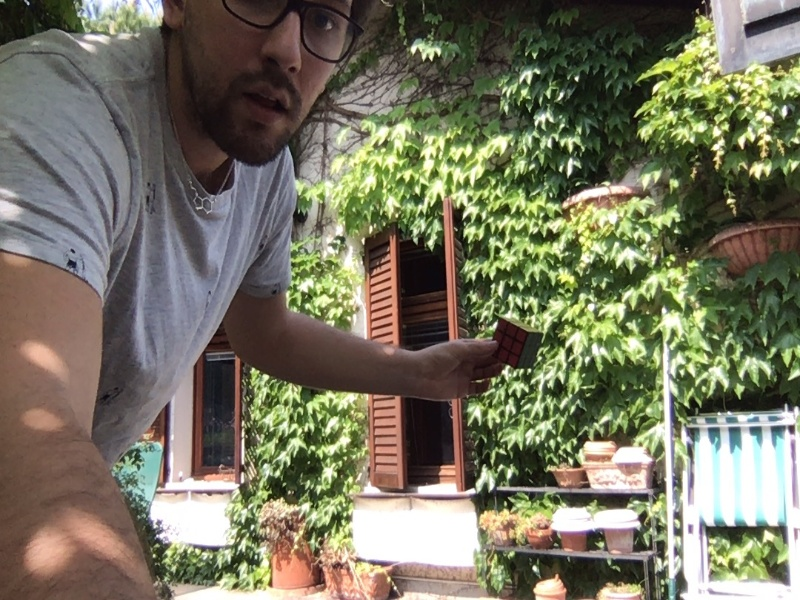rubik: (493, 317, 544, 370)
